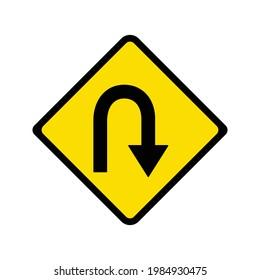Right Hair Pin Bend: (18, 23, 248, 240)
